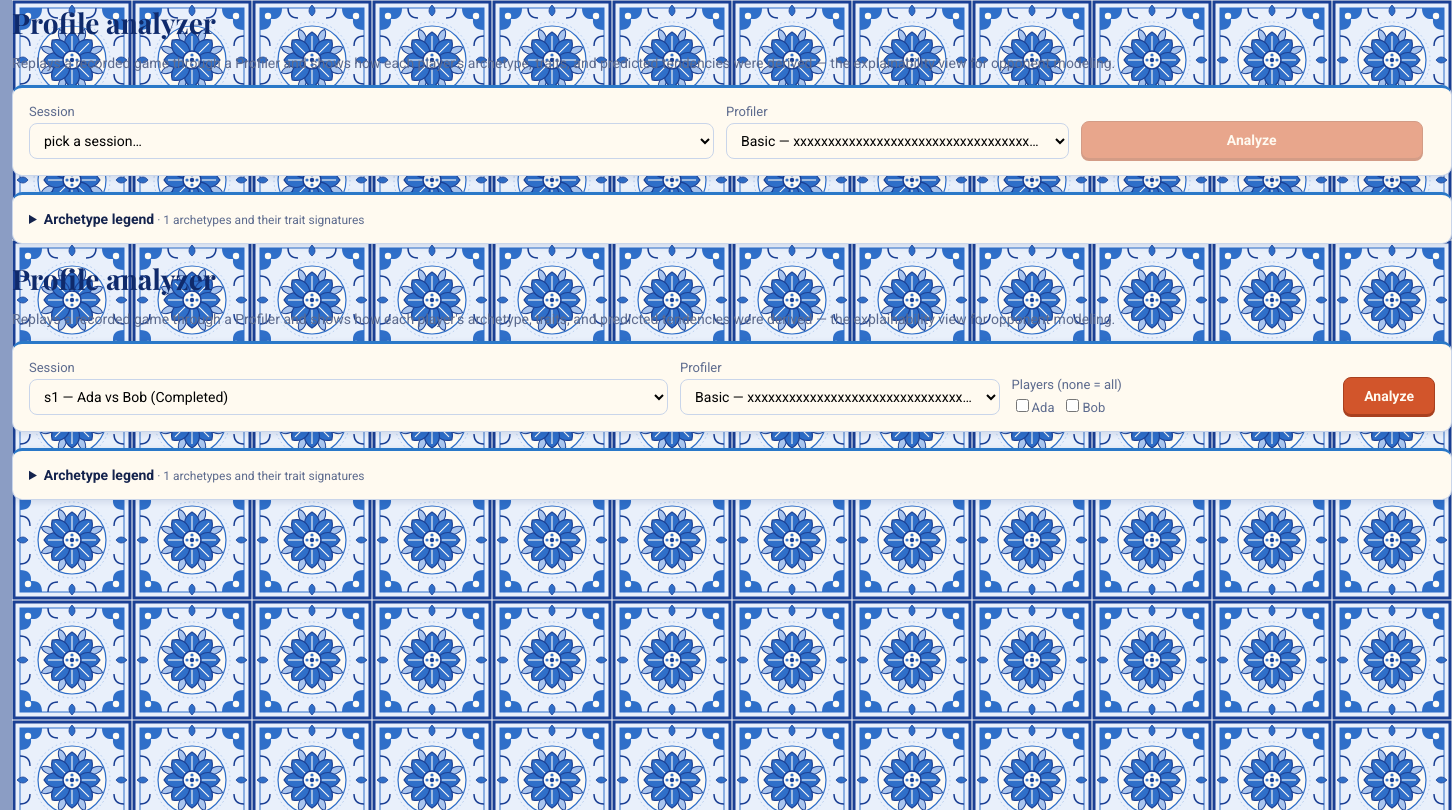
Scenario: Profiles › auto-picks a session and reports analysis failures
The width and height of the screenshot is (1452, 810).
Click the button "Analyze" in the row of "Players (none = all)". click: (1389, 396)
box: x1=1343 y1=377 x2=1435 y2=415
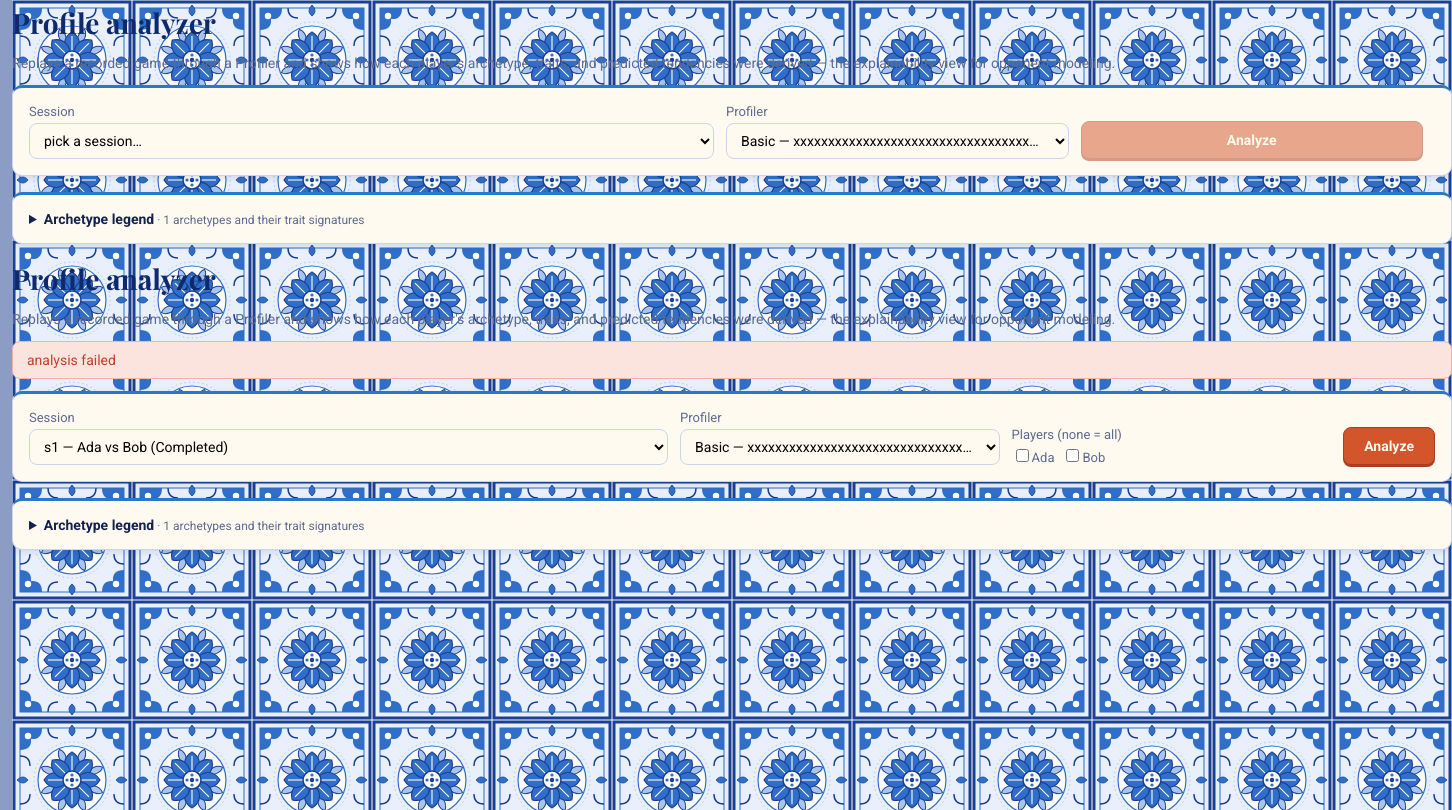
Expected: the text "analysis failed" is shown, x1=12 y1=341 x2=1451 y2=379
